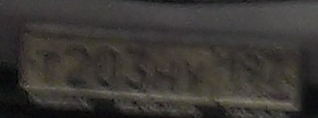character: (120, 40, 150, 93), (62, 41, 92, 89), (93, 41, 120, 92), (151, 57, 179, 96), (180, 57, 208, 96), (34, 47, 60, 87), (264, 48, 289, 89), (240, 47, 264, 88), (219, 47, 238, 85)
